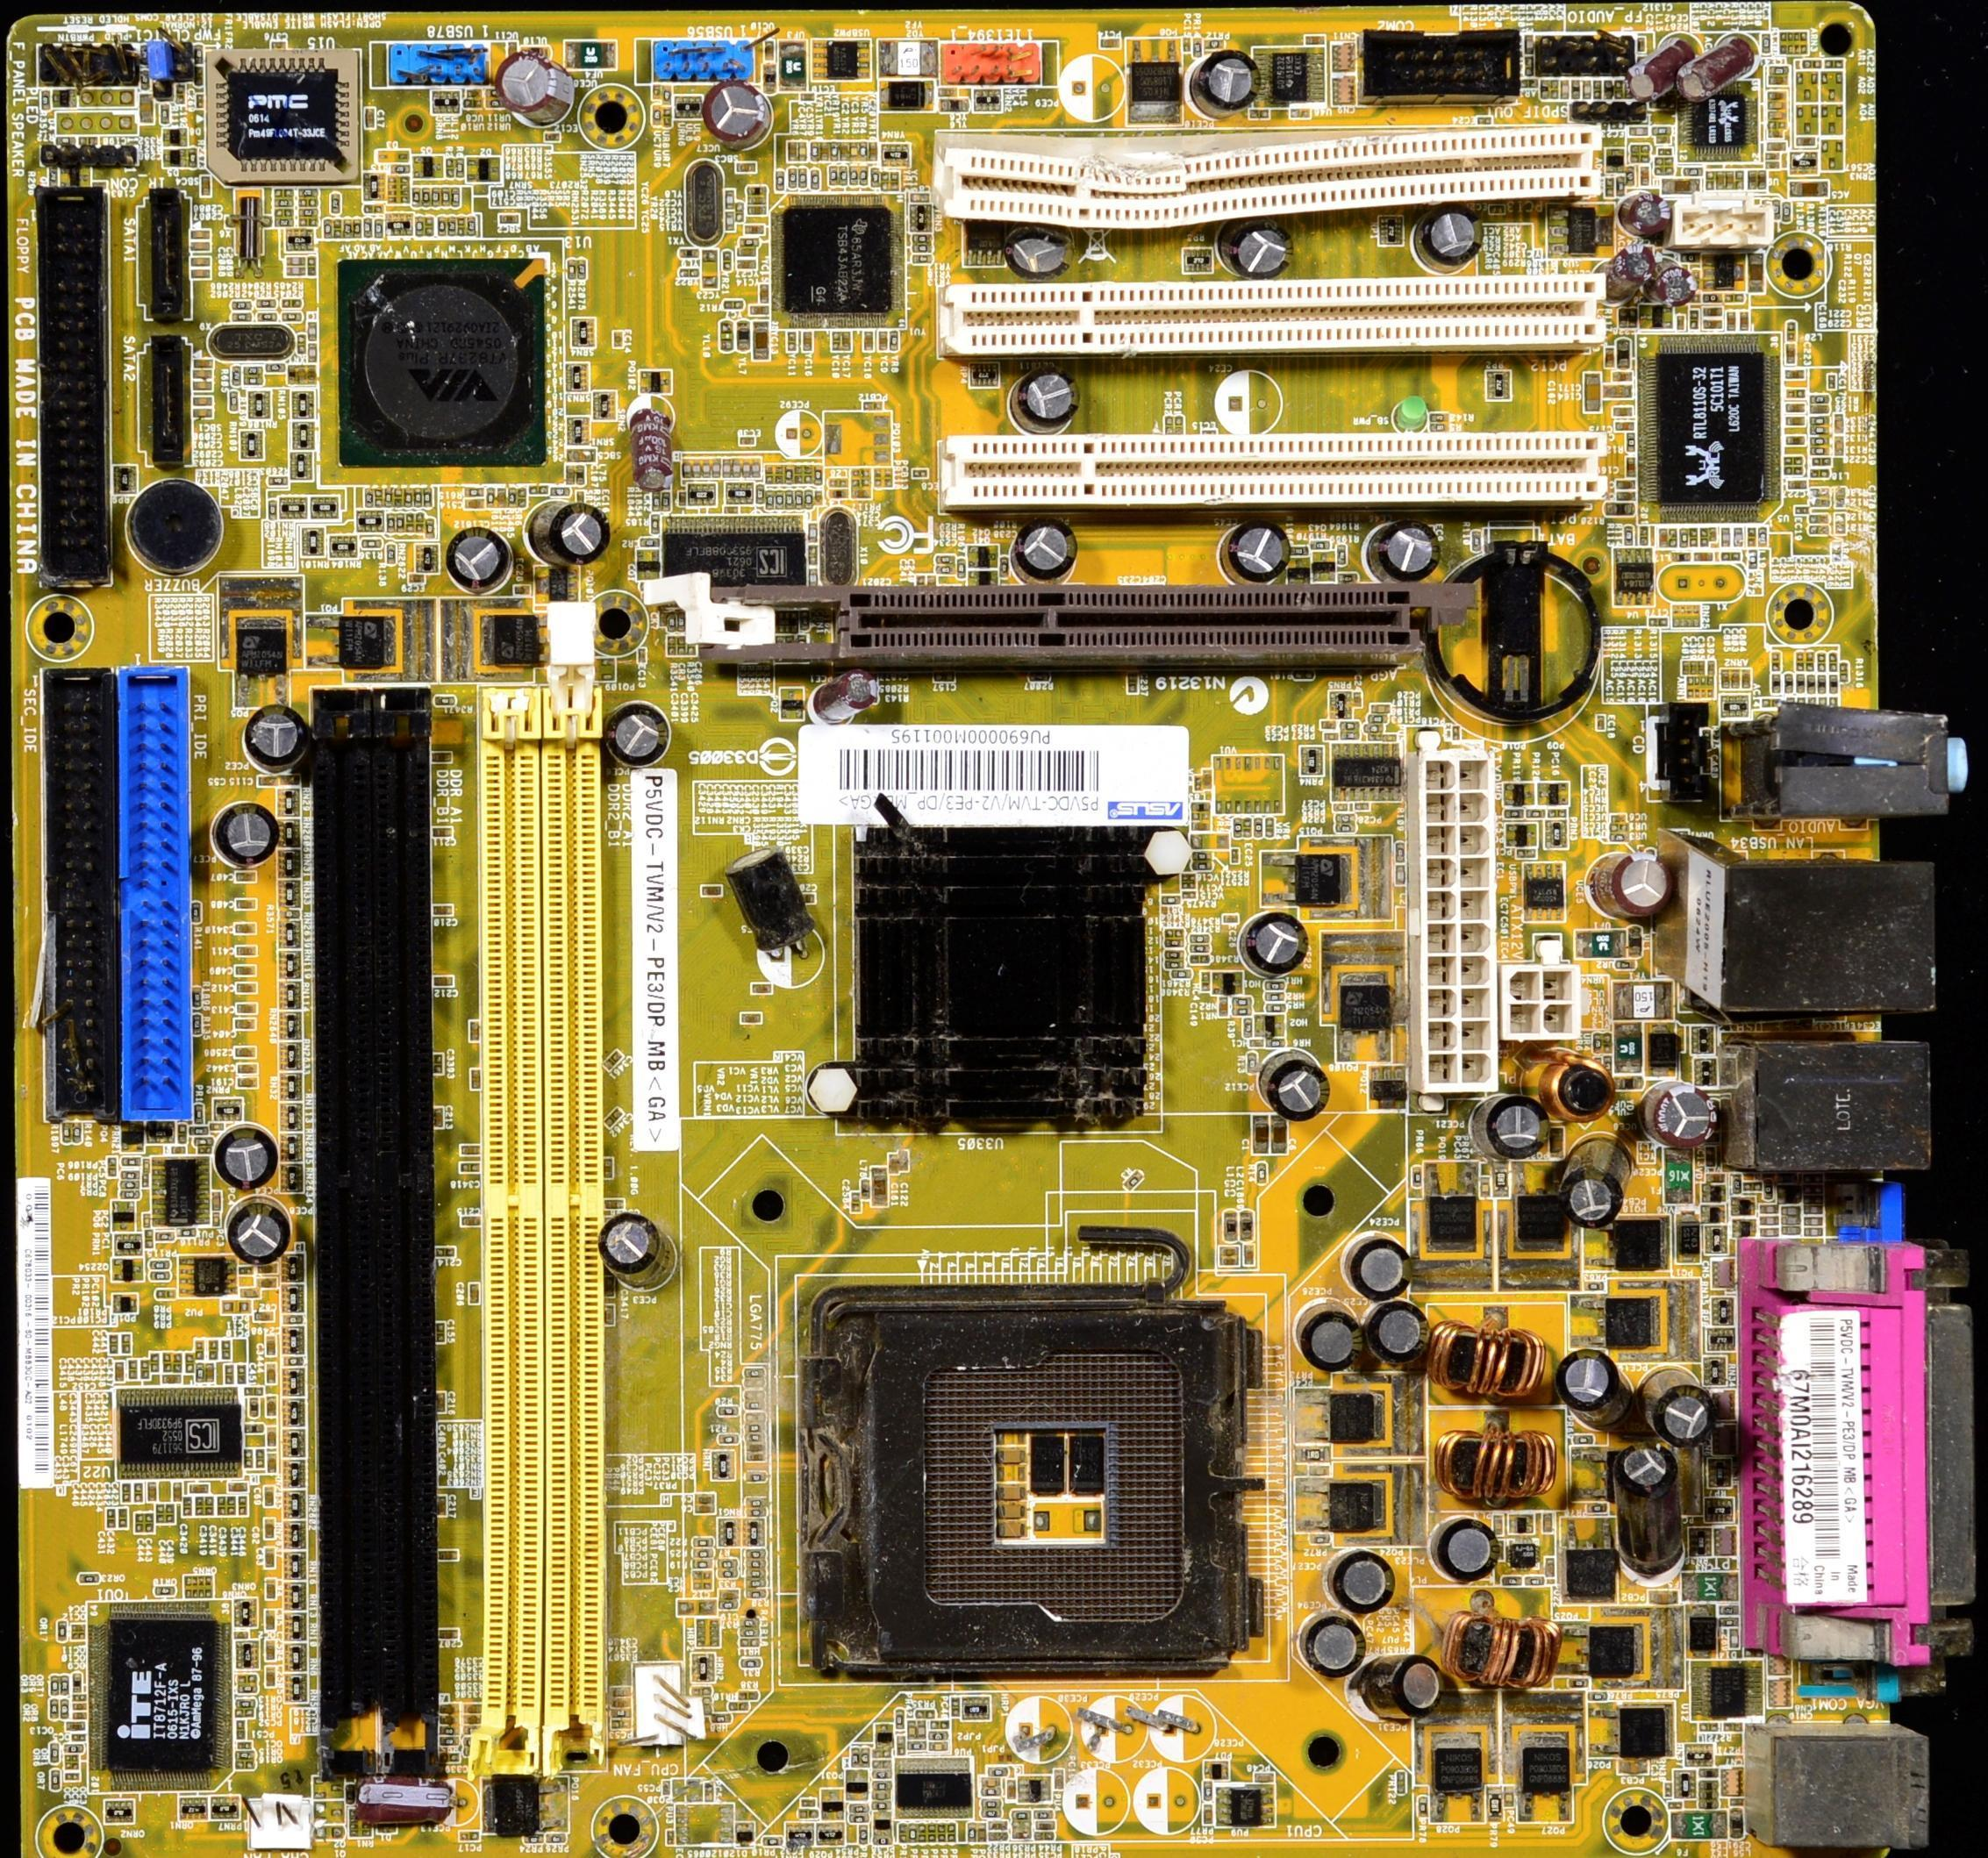Capacitor: (726, 847, 813, 960), (1618, 1435, 1685, 1576), (1593, 847, 1682, 924), (1548, 1341, 1623, 1426), (1559, 1139, 1632, 1226), (622, 411, 689, 502), (225, 1192, 299, 1272), (597, 1209, 676, 1284), (1682, 43, 1764, 111), (447, 518, 518, 597), (1262, 1055, 1334, 1132), (355, 1778, 454, 1833), (497, 55, 573, 125), (603, 703, 679, 770), (1019, 365, 1086, 441), (1477, 1091, 1552, 1159), (999, 218, 1077, 282), (214, 1119, 283, 1187), (1423, 204, 1491, 274), (1226, 223, 1295, 290), (540, 499, 606, 570), (1012, 518, 1083, 584), (247, 704, 311, 775), (1644, 1380, 1711, 1447), (1241, 911, 1308, 976), (1650, 1082, 1720, 1146), (1379, 512, 1440, 583), (1195, 49, 1262, 112), (703, 82, 769, 142), (1642, 34, 1691, 116), (214, 802, 276, 865), (1229, 512, 1284, 583), (1626, 191, 1675, 236), (1652, 263, 1692, 306), (1616, 246, 1655, 289), (1248, 1112, 1271, 1156), (869, 1165, 890, 1208), (1269, 1110, 1289, 1154), (1584, 371, 1602, 412), (603, 1104, 624, 1131), (232, 1014, 260, 1034), (263, 1395, 282, 1421), (251, 1310, 276, 1328), (231, 873, 261, 888), (430, 1051, 447, 1078), (234, 1002, 262, 1018), (132, 1509, 146, 1540), (105, 1331, 122, 1357), (237, 1284, 261, 1303), (262, 1449, 277, 1478), (104, 1506, 118, 1537), (232, 942, 259, 958), (605, 1048, 623, 1072), (435, 1494, 452, 1519), (262, 1332, 275, 1362), (236, 1061, 260, 1077), (231, 1046, 259, 1060), (154, 1502, 167, 1532), (233, 962, 261, 976), (224, 1361, 238, 1389), (182, 1491, 195, 1520), (261, 1484, 278, 1507), (235, 981, 259, 997), (260, 1579, 275, 1603), (263, 1669, 279, 1692), (190, 239, 214, 254), (435, 1548, 461, 1562), (262, 1607, 276, 1633), (264, 1638, 278, 1664), (232, 921, 256, 936), (256, 1276, 278, 1292), (193, 1493, 206, 1520), (1216, 1253, 1241, 1267), (161, 1349, 174, 1378), (181, 1353, 196, 1376), (468, 1068, 482, 1094), (263, 1361, 276, 1388), (216, 1493, 229, 1519), (1784, 414, 1808, 428), (207, 1340, 222, 1363), (190, 254, 213, 268), (437, 1627, 462, 1640), (432, 975, 455, 989), (564, 462, 578, 486), (165, 1501, 176, 1530), (1785, 367, 1807, 382), (435, 1320, 447, 1347), (262, 1426, 275, 1453), (227, 1493, 240, 1518), (118, 1507, 130, 1533), (1701, 318, 1726, 331), (432, 902, 454, 916), (236, 1075, 259, 1089), (264, 1547, 278, 1570), (1726, 309, 1740, 332), (233, 1361, 249, 1382), (1656, 526, 1671, 547), (262, 1518, 275, 1543), (467, 1018, 480, 1042), (602, 1156, 615, 1180), (1217, 1244, 1241, 1257), (1613, 478, 1636, 491), (433, 1246, 455, 1260), (1739, 309, 1751, 333), (113, 1361, 125, 1384), (1784, 402, 1808, 414), (461, 1213, 483, 1226), (148, 1352, 161, 1374), (139, 1359, 153, 1381), (189, 268, 211, 281), (433, 1105, 445, 1130), (888, 1153, 900, 1176), (1602, 346, 1614, 368), (1611, 368, 1634, 381), (146, 1511, 155, 1540), (460, 1143, 481, 1156), (1693, 549, 1714, 562), (436, 1702, 455, 1716), (469, 1281, 481, 1304), (694, 1504, 718, 1515), (1582, 77, 1594, 99), (459, 1161, 481, 1173), (1624, 454, 1636, 476), (193, 1364, 206, 1384), (122, 1332, 133, 1354), (193, 1339, 204, 1361), (175, 1352, 186, 1375), (694, 1491, 715, 1504), (1703, 307, 1727, 318), (1614, 418, 1633, 432), (1768, 111, 1790, 123), (1784, 342, 1796, 364), (436, 1390, 447, 1413), (1716, 167, 1727, 189), (432, 826, 453, 838), (204, 1494, 214, 1519), (130, 1360, 140, 1382), (1559, 79, 1570, 99), (1217, 997, 1228, 1017), (221, 1337, 231, 1361), (1613, 490, 1637, 500), (234, 900, 260, 909), (123, 1482, 132, 1507), (190, 228, 211, 239), (850, 1191, 862, 1211), (797, 139, 807, 161), (1726, 167, 1735, 189), (1767, 100, 1785, 111), (1005, 1780, 1014, 1804), (240, 1494, 247, 1519), (849, 140, 859, 161), (134, 1483, 144, 1503), (276, 1455, 277, 1457)
Connector: (1761, 1242, 1988, 1657), (1703, 861, 1942, 1011), (1761, 1036, 1963, 1190), (1756, 716, 1974, 840), (1774, 1729, 1963, 1858)
IC: (843, 819, 1162, 1141), (325, 244, 559, 486), (82, 1602, 232, 1792), (1642, 336, 1777, 520), (207, 46, 363, 182), (771, 185, 897, 322), (113, 1385, 248, 1485), (656, 511, 811, 593), (113, 1387, 240, 1477), (1681, 82, 1761, 161), (897, 1760, 974, 1818), (147, 1155, 210, 1226), (1329, 747, 1405, 804), (1257, 47, 1328, 107), (810, 37, 876, 83), (1542, 212, 1618, 252), (1613, 544, 1658, 608), (1220, 1786, 1273, 1829)
Resistor: (58, 1118, 75, 1150), (782, 166, 800, 189), (806, 168, 821, 196), (241, 362, 267, 378), (254, 297, 280, 311), (1123, 1172, 1143, 1191), (1781, 668, 1796, 694), (837, 163, 853, 187), (464, 216, 480, 239), (826, 164, 840, 190), (227, 298, 254, 312), (1768, 671, 1783, 696), (267, 360, 289, 376), (274, 195, 296, 211), (772, 168, 786, 192), (717, 1432, 740, 1447), (746, 1469, 769, 1484), (227, 312, 254, 325), (280, 309, 304, 323), (72, 1119, 82, 1150), (1794, 671, 1807, 696), (1816, 674, 1829, 698), (717, 1404, 740, 1418), (297, 197, 320, 211), (565, 257, 579, 280), (445, 153, 457, 178), (797, 165, 811, 189), (411, 185, 424, 209), (868, 168, 882, 190), (271, 186, 293, 200), (893, 1705, 905, 1730), (295, 207, 319, 219), (341, 214, 354, 239), (254, 309, 279, 321), (747, 1556, 767, 1571), (363, 537, 383, 552), (329, 193, 342, 216), (437, 215, 450, 238), (384, 543, 397, 566), (856, 165, 870, 186), (873, 1801, 894, 1815), (275, 216, 296, 230), (740, 234, 761, 248), (692, 1535, 716, 1547), (846, 164, 858, 188), (1677, 526, 1689, 550), (352, 216, 365, 238), (1428, 411, 1450, 424), (988, 1765, 1008, 1779), (421, 186, 433, 209), (363, 216, 375, 240), (1671, 551, 1694, 563), (739, 1658, 765, 1669), (860, 1824, 870, 1850), (907, 1739, 926, 1753), (281, 298, 304, 310), (1625, 523, 1636, 547), (1828, 673, 1840, 697), (1766, 64, 1790, 75), (809, 141, 821, 163), (717, 1556, 739, 1569), (440, 187, 453, 209), (1759, 31, 1771, 53), (1812, 434, 1832, 447), (450, 186, 461, 209), (297, 218, 320, 229), (447, 214, 458, 237), (1428, 422, 1451, 433), (1653, 125, 1674, 138), (746, 1432, 767, 1444), (858, 140, 870, 161), (456, 154, 467, 179), (851, 1812, 872, 1824), (374, 218, 386, 239), (232, 363, 242, 388), (692, 1555, 712, 1569), (1682, 166, 1701, 179), (412, 487, 425, 506), (431, 186, 442, 208), (383, 486, 394, 508), (425, 517, 436, 539), (1806, 672, 1817, 694), (745, 1399, 765, 1411), (245, 373, 263, 386), (738, 1619, 761, 1629), (871, 1790, 892, 1802), (364, 487, 375, 508), (387, 513, 398, 534), (794, 487, 804, 511), (830, 138, 840, 160), (746, 1548, 768, 1559), (1502, 1575, 1524, 1585), (456, 214, 467, 236), (804, 488, 814, 510), (812, 464, 824, 484), (395, 513, 406, 533), (719, 1601, 742, 1611), (755, 480, 765, 504), (983, 1785, 1002, 1797), (982, 1798, 1003, 1809), (578, 256, 588, 279), (423, 488, 434, 507), (784, 489, 794, 511), (1812, 424, 1829, 436), (747, 1498, 767, 1509), (747, 1507, 767, 1518), (693, 1547, 713, 1557), (1033, 1811, 1054, 1821), (967, 1823, 977, 1843), (1616, 175, 1627, 196), (743, 1423, 767, 1432), (927, 1731, 951, 1740), (776, 487, 785, 511), (871, 1769, 892, 1779), (297, 189, 318, 198), (850, 1802, 868, 1813), (1012, 1811, 1032, 1820), (1811, 394, 1829, 404), (737, 1692, 759, 1701), (784, 462, 793, 484), (404, 488, 413, 510), (718, 1569, 737, 1578), (983, 1808, 1002, 1818), (273, 210, 294, 218), (1813, 446, 1831, 456), (872, 1779, 890, 1789), (768, 490, 776, 511), (739, 1629, 761, 1637), (747, 1578, 764, 1588), (747, 1590, 767, 1599), (1809, 417, 1828, 425), (1525, 1577, 1546, 1585), (746, 1570, 764, 1579), (746, 1368, 763, 1376), (909, 1825, 916, 1843)
Transistor: (1301, 1380, 1399, 1455), (287, 611, 400, 675), (1255, 832, 1358, 901), (461, 607, 560, 679), (1301, 1478, 1404, 1547), (483, 1768, 571, 1842), (1409, 1156, 1478, 1247), (1512, 1726, 1573, 1826), (1336, 977, 1403, 1061), (1582, 1698, 1680, 1754), (233, 611, 291, 705), (1430, 1730, 1485, 1827), (1583, 1294, 1683, 1347), (1517, 1158, 1569, 1242), (1554, 1545, 1621, 1597), (1600, 1219, 1668, 1268), (1576, 1626, 1639, 1675)
